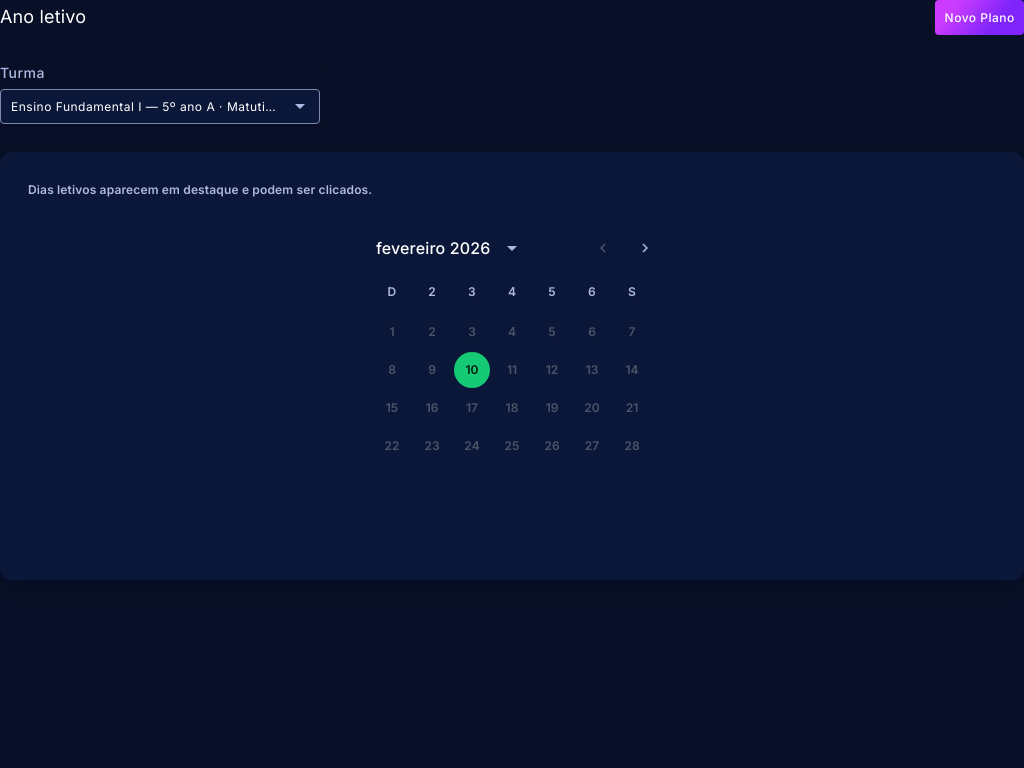
Test: LessonPlans page — teacher view › shows the 422 the API answers when a day turns out not to be instructional after all
Click the cell "10".
click(472, 370)  # box left=454, top=352, right=490, bottom=388
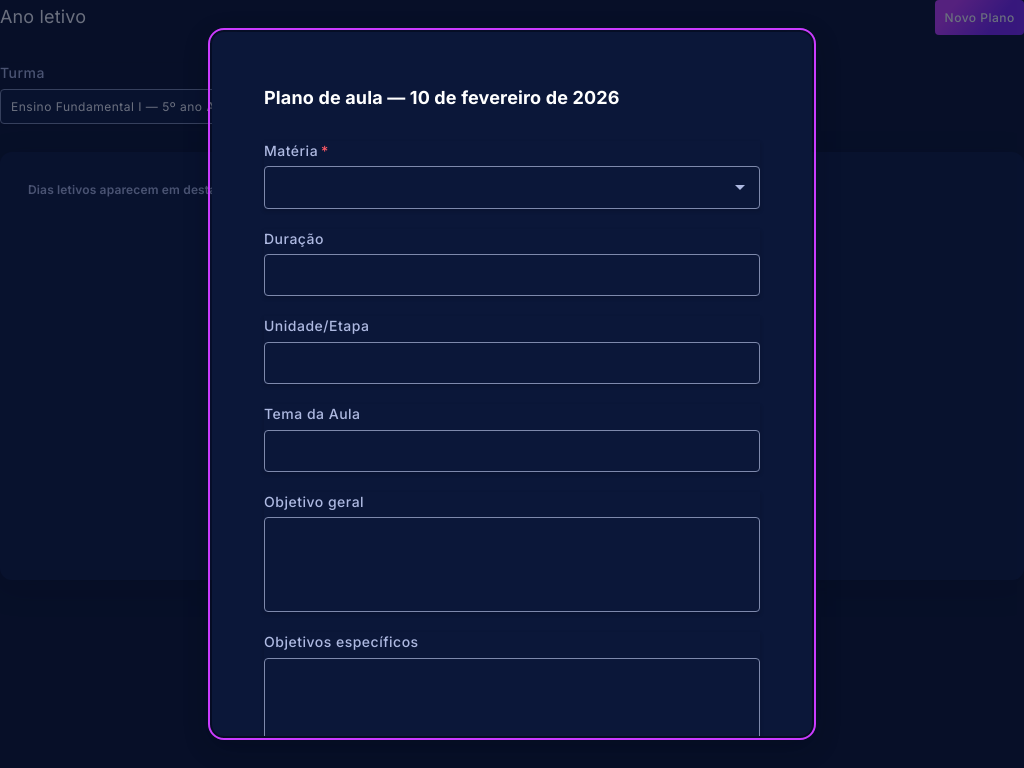
Click the dropdown named "matéria".
click(512, 187)  # box left=275, top=177, right=749, bottom=198
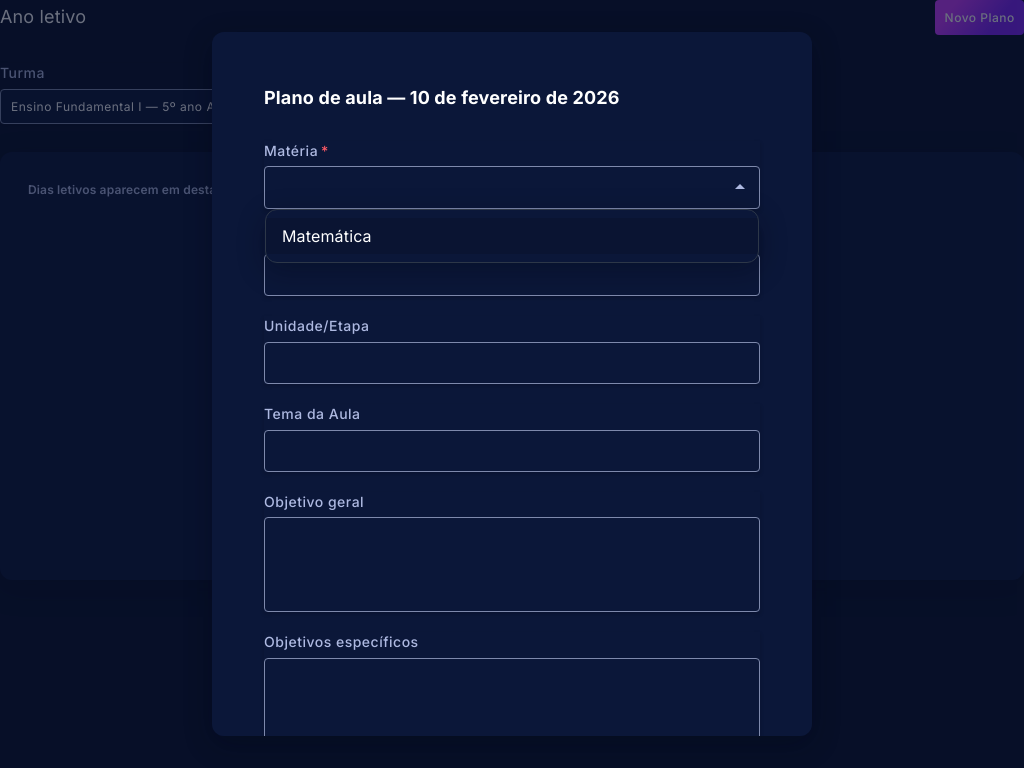
Click the option "Matemática".
click(327, 236)  # box left=266, top=218, right=758, bottom=254
(page scrolled)
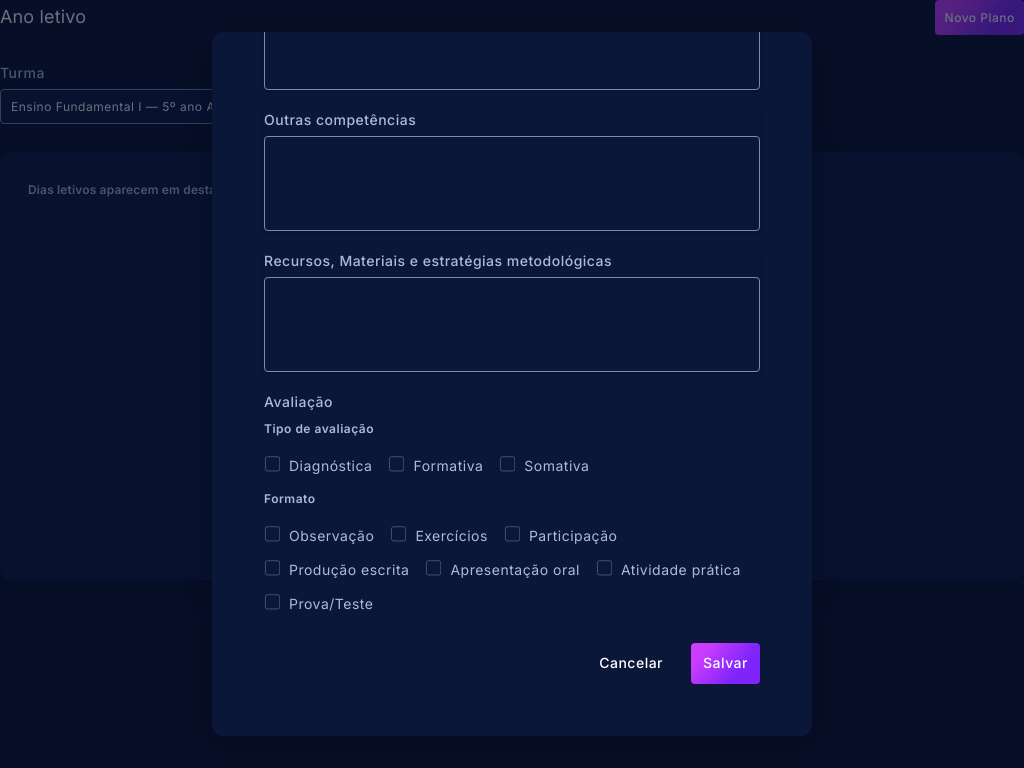
Click the button "Salvar".
click(726, 663)  # box left=691, top=643, right=760, bottom=684
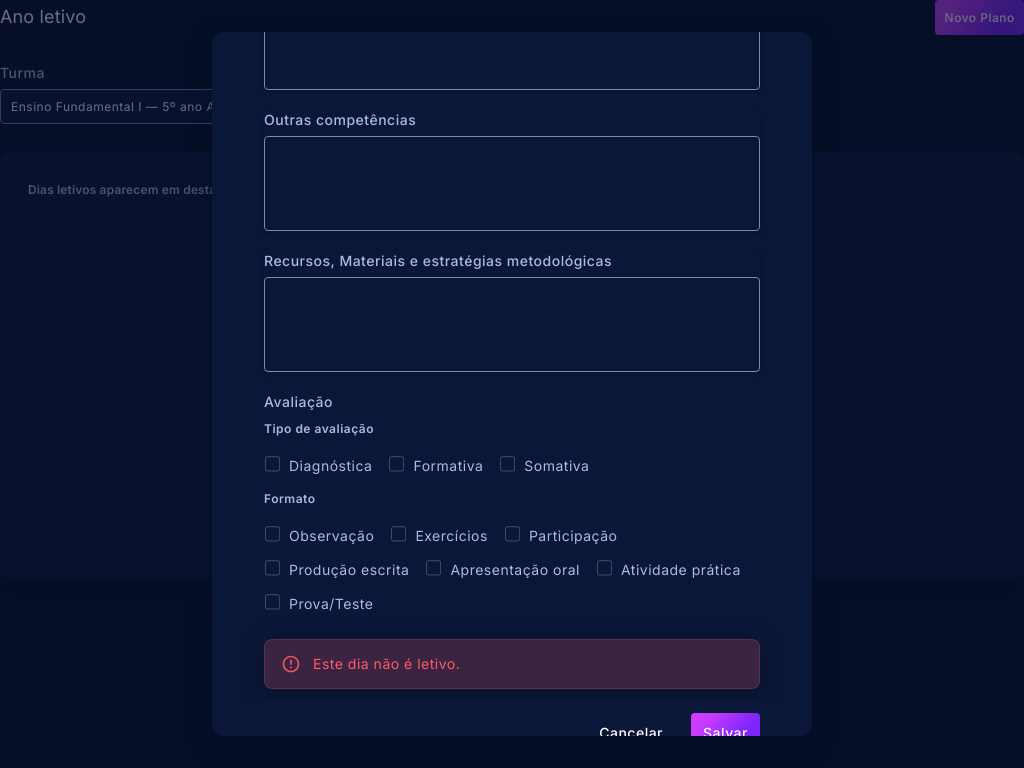
Expected: the text "Este dia não é letivo." is shown, left=313, top=655, right=460, bottom=672
